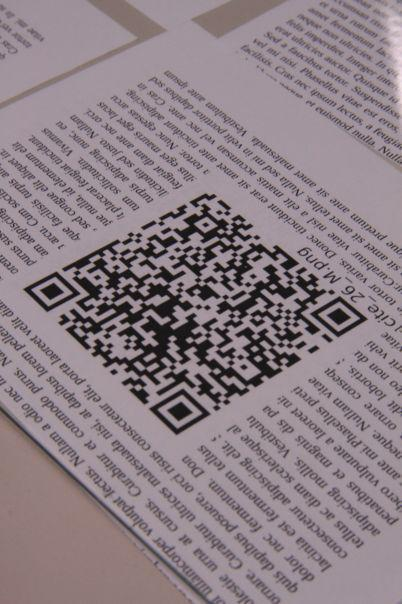Finder pattern: (150, 389, 210, 438), (309, 294, 369, 342), (22, 270, 85, 313)
